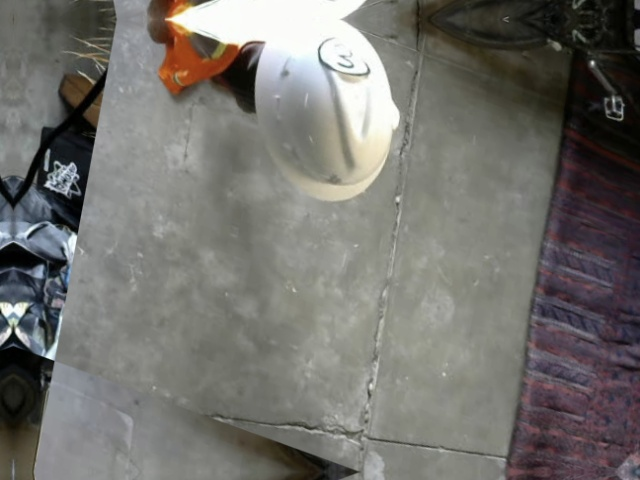three: (315, 29, 372, 81)
